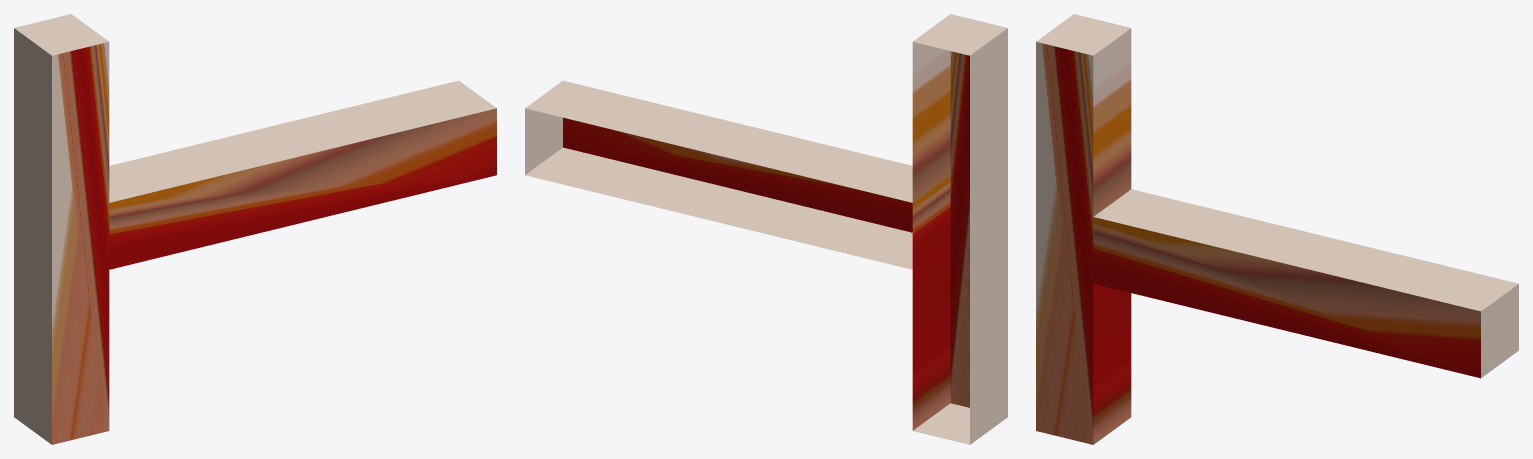
3 renders of one model, left to right at view 1: azimuth 30°, elevation 25°; view 2: azimuth 150°, elevation 25°; view 3: azimuth 330°, elevation 25°, orthographic.
Parts seen in each view (by area): view 1: テキスト; view 2: テキスト; view 3: テキスト.
Part boxes in pixels (box(x1,y1,x2,y2)): テキスト: box(14, 14, 496, 444); テキスト: box(525, 14, 1007, 444); テキスト: box(1036, 14, 1518, 444).
Size of the model in its own units: 0.682 by 0.57 by 0.1007.
Materials: 1 (1 with a texture image).
